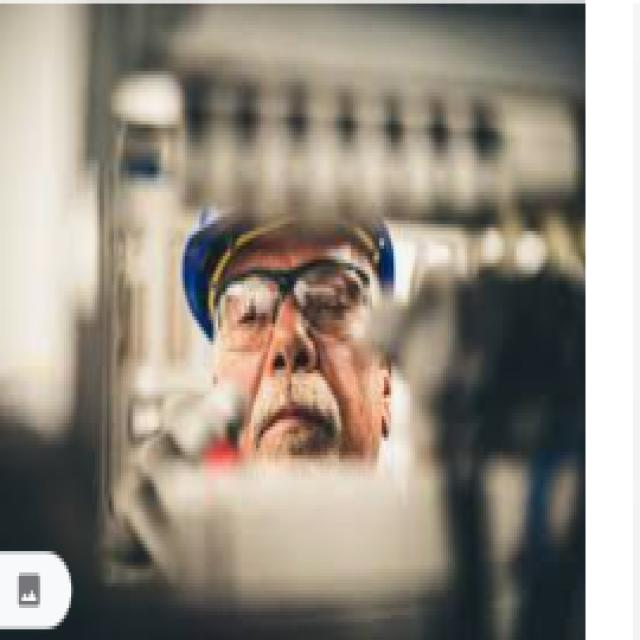glasses: (203, 272, 366, 347)
